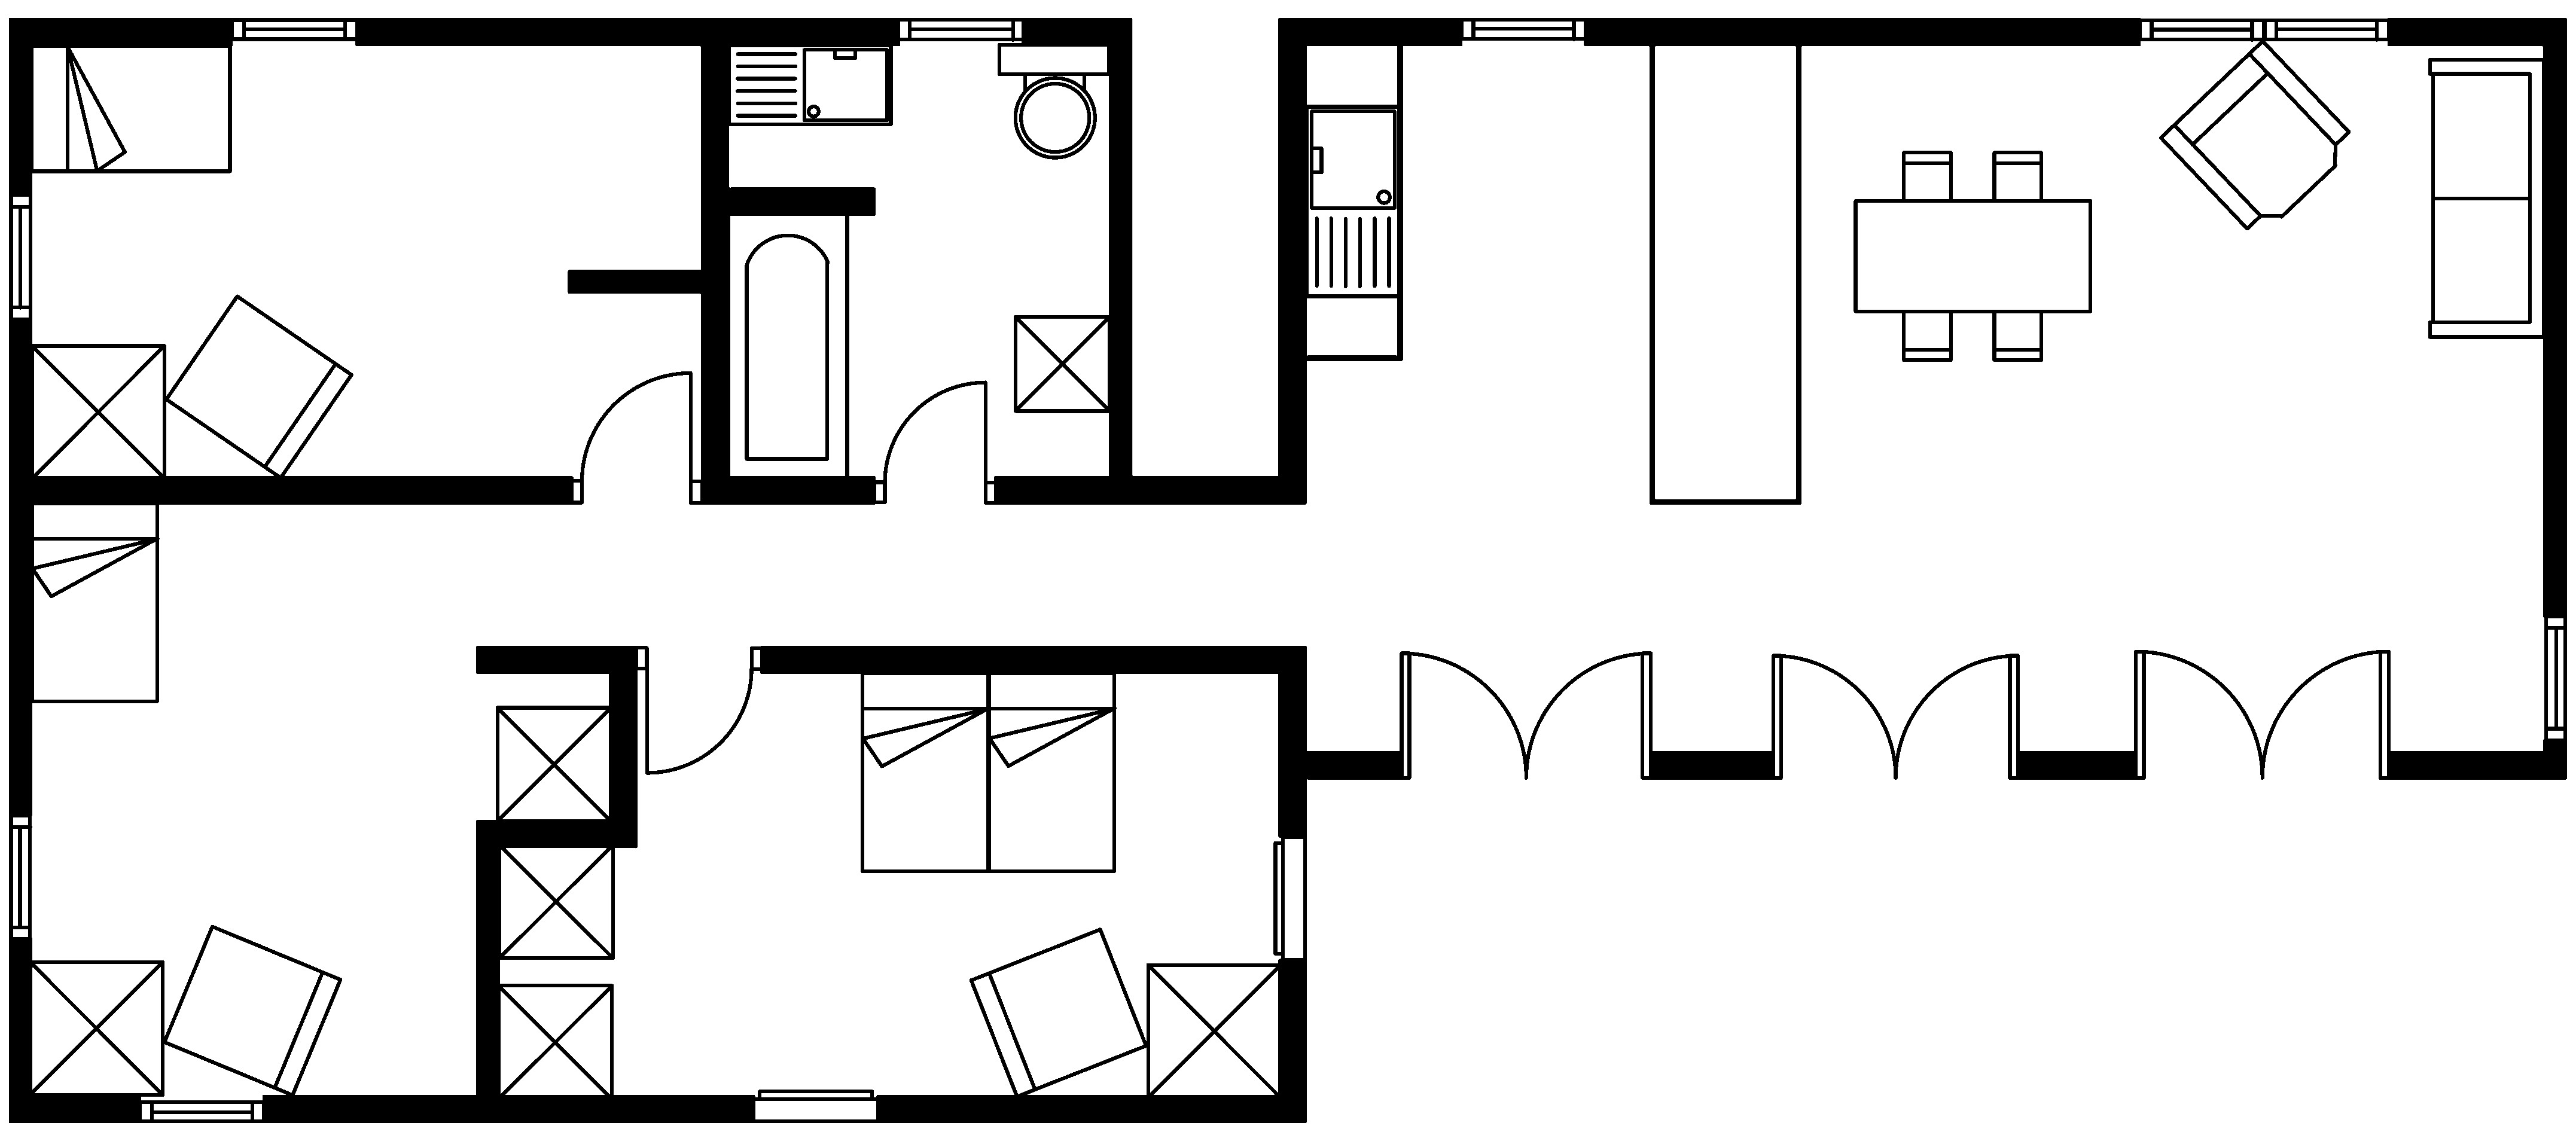armchair: (2159, 38, 2351, 230)
bed: (28, 501, 159, 703), (30, 43, 232, 174), (859, 670, 991, 872), (986, 670, 1117, 872)
coffee_table: (26, 959, 164, 1097), (1145, 963, 1283, 1099), (30, 343, 166, 480), (494, 982, 614, 1101), (494, 705, 613, 823), (496, 841, 614, 959), (1012, 314, 1112, 412)
dining_table: (1853, 150, 2093, 361)
large_sink: (997, 41, 1111, 158)
large_sofa: (2426, 58, 2545, 338)
sink: (1304, 104, 1401, 297), (726, 43, 894, 127)
small_sofa: (163, 294, 353, 480), (161, 923, 342, 1097), (968, 927, 1148, 1099)
tub: (726, 210, 849, 483)
